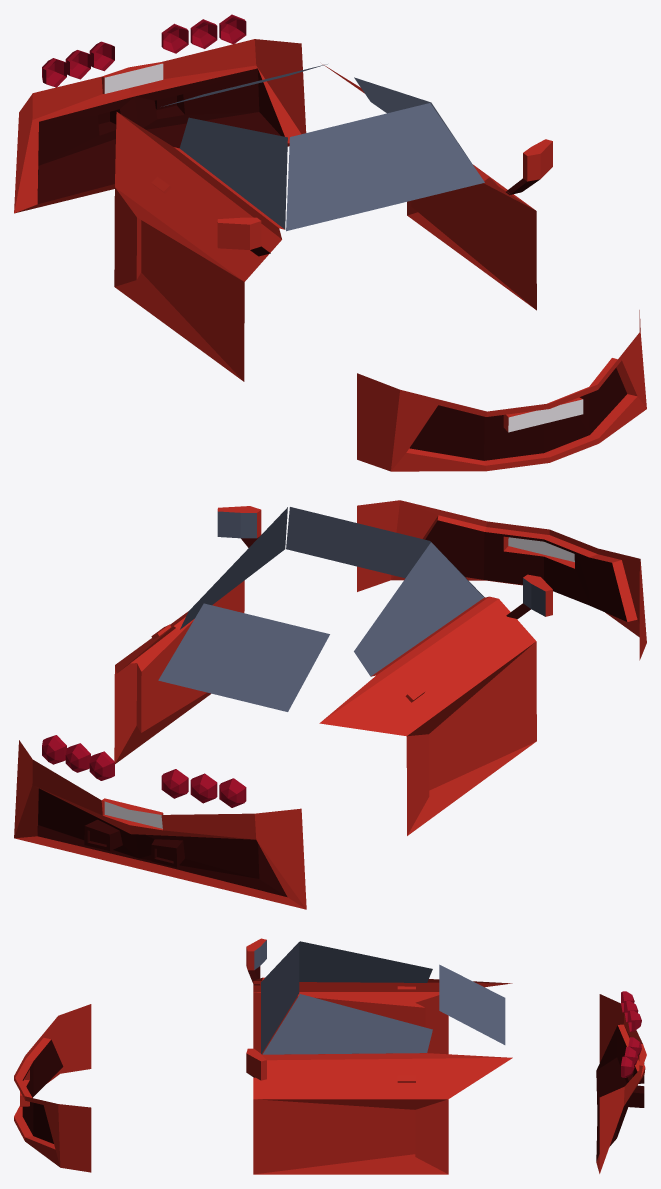
The model's file is car2Bumper1.fbx.
The picture shows the model from 3 angles, top to bottom: view 1: azimuth 30°, elevation 25°; view 2: azimuth 150°, elevation 25°; view 3: azimuth 270°, elevation 25°; orthographic projection. The views are drawn at different scales.
Visible parts, largest first — view 1: bumper.001; view 2: bumper.001; view 3: bumper.001.
Boxes of the visible parts, x1=… form: bumper.001: x1=14, y1=14, x2=646, y2=471; bumper.001: x1=14, y1=500, x2=646, y2=909; bumper.001: x1=14, y1=938, x2=646, y2=1174.
Bounding box in the file's own units: 2.63 × 1.53 × 5.73.
